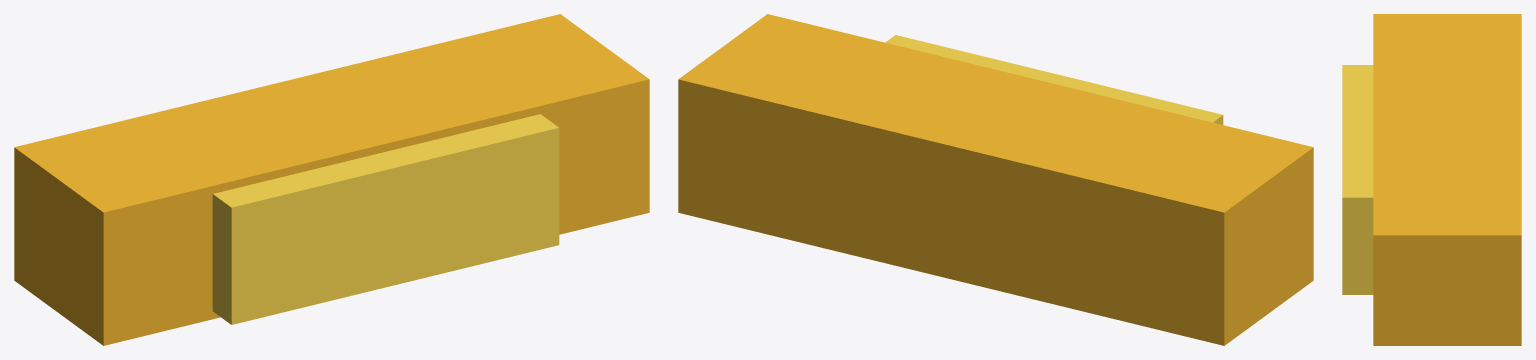
Rendered from bus.obj.
The picture shows the model from 3 angles, left to right: view 1: azimuth 30°, elevation 25°; view 2: azimuth 150°, elevation 25°; view 3: azimuth 270°, elevation 25°; orthographic projection. The views are drawn at different scales.
Parts seen in each view (by area): view 1: body, roof; view 2: body, roof; view 3: body, roof.
Boxes of the visible parts, x1,y1,x2,y2 form: body: (14, 14, 649, 345); roof: (212, 114, 559, 324); body: (678, 14, 1313, 345); roof: (885, 35, 1223, 124); body: (1373, 14, 1521, 345); roof: (1342, 65, 1373, 294).
Size of the model in its own units: 1200 by 280 by 411.
